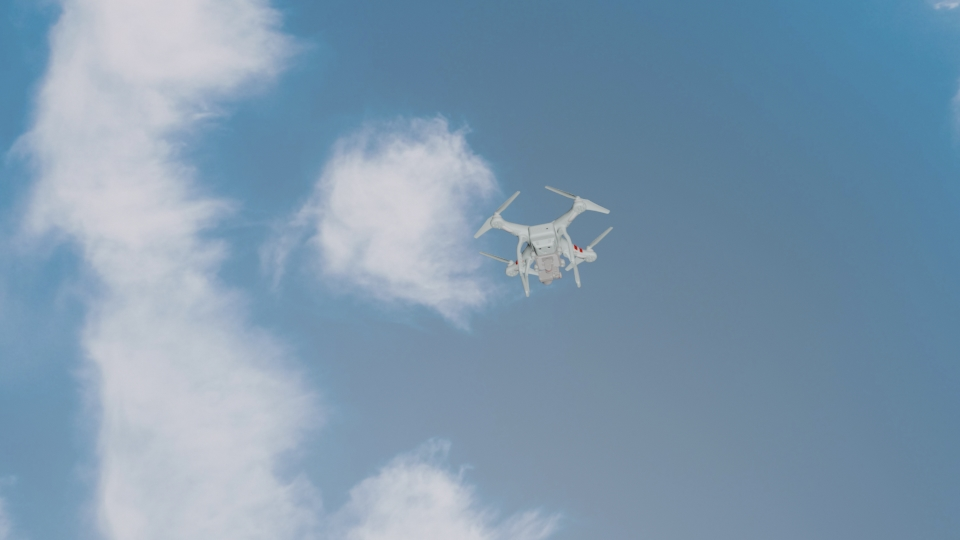drone: (476, 186, 612, 298)
